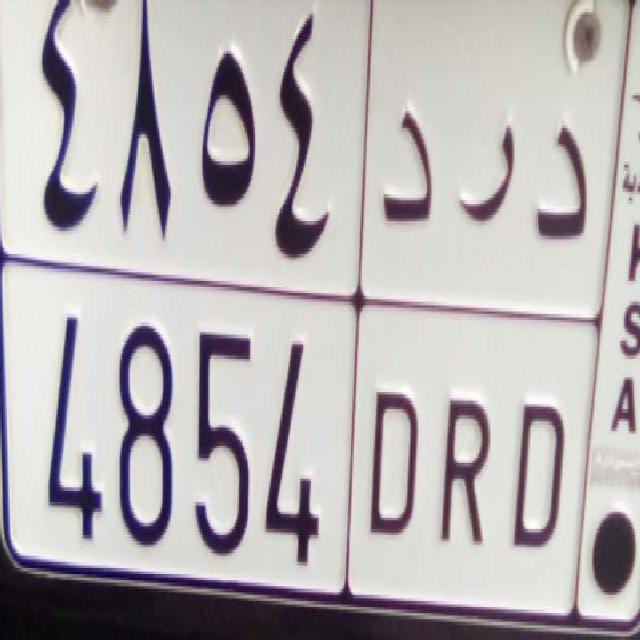license_plate: (9, 244, 581, 640)
